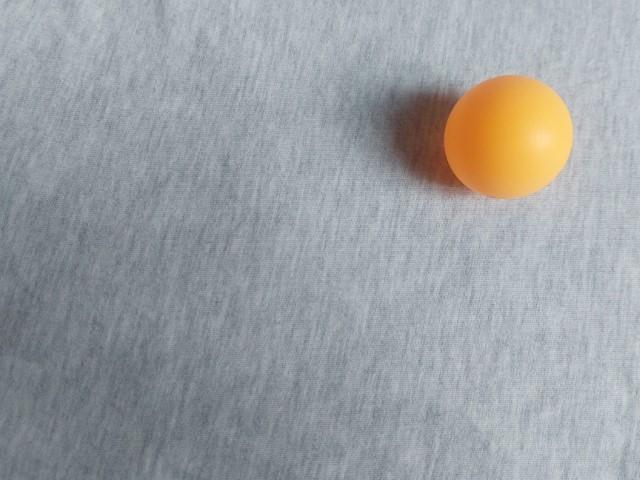oball: (59, 274, 201, 409)
